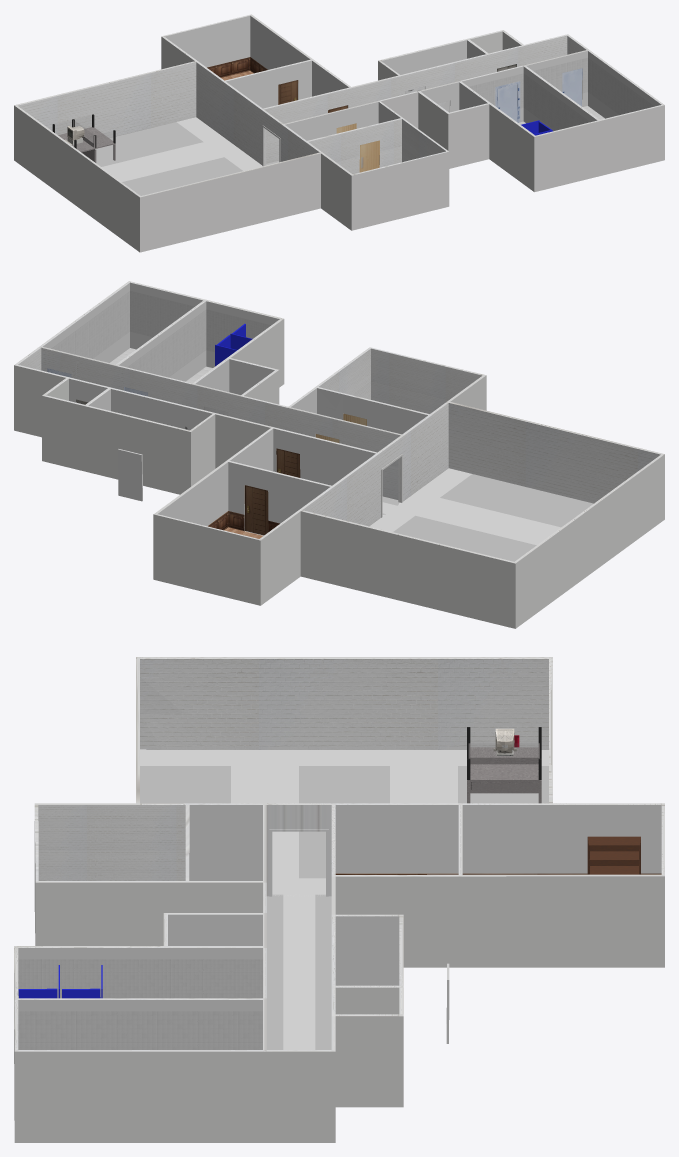
File: Główny_projekt_levela.dae
The picture shows the model from 3 angles, top to bottom: view 1: azimuth 30°, elevation 25°; view 2: azimuth 150°, elevation 25°; view 3: azimuth 270°, elevation 25°; orthographic projection. The views are drawn at different scales.
Visible parts, largest first — view 1: Płaszczyzna, Podłoga_sali_główniej, Stół, Sześcian.005, Sześcian.004, Sześcian.009, Sześcian.008; view 2: Płaszczyzna, Podłoga_sali_główniej, Sześcian, Sześcian.008, Sześcian.001; view 3: Płaszczyzna, Podłoga_sali_główniej, Podłoga_w_holu, Stół, Cube.003.
Boxes of the visible parts, x1=… form: Płaszczyzna: x1=14, y1=14, x2=664, y2=252; Podłoga_sali_główniej: x1=95, y1=117, x2=262, y2=195; Stół: x1=52, y1=114, x2=115, y2=162; Sześcian.005: x1=497, y1=84, x2=517, y2=122; Sześcian.004: x1=562, y1=68, x2=582, y2=106; Sześcian.009: x1=359, y1=140, x2=379, y2=172; Sześcian.008: x1=278, y1=80, x2=298, y2=104; Płaszczyzna: x1=14, y1=281, x2=664, y2=628; Podłoga_sali_główniej: x1=369, y1=468, x2=593, y2=561; Sześcian: x1=118, y1=449, x2=142, y2=501; Sześcian.008: x1=244, y1=485, x2=268, y2=535; Sześcian.001: x1=276, y1=448, x2=300, y2=477; Płaszczyzna: x1=14, y1=657, x2=664, y2=1142; Podłoga_sali_główniej: x1=140, y1=750, x2=548, y2=894; Podłoga_w_holu: x1=266, y1=894, x2=331, y2=1049; Stół: x1=467, y1=727, x2=541, y2=803; Cube.003: x1=587, y1=836, x2=640, y2=874.
Size of the model in its own units: 100 by 69.72 by 10.78.
